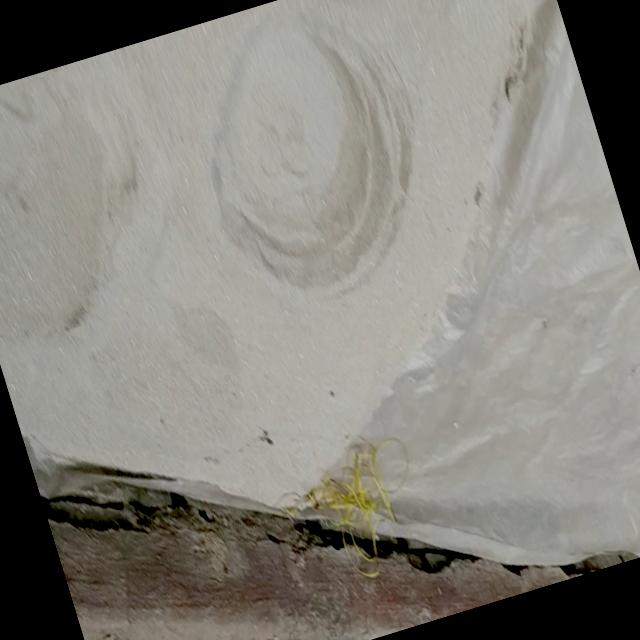C20: (211, 18, 410, 288), (0, 71, 128, 338)
